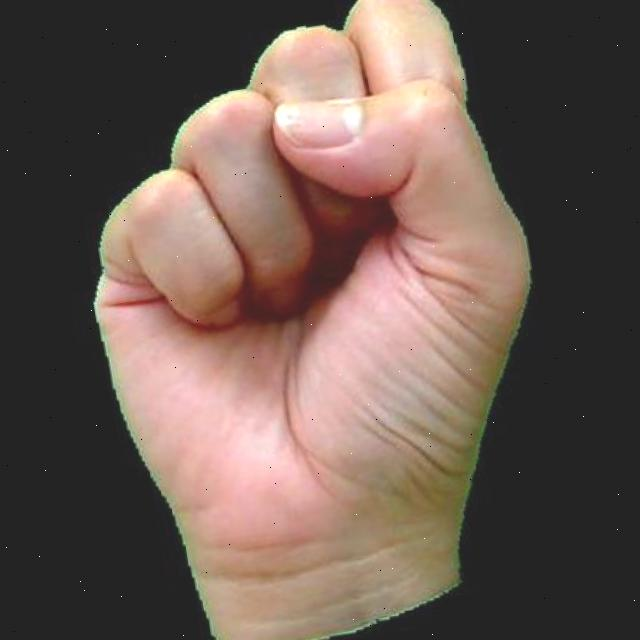s: (26, 0, 584, 640)
